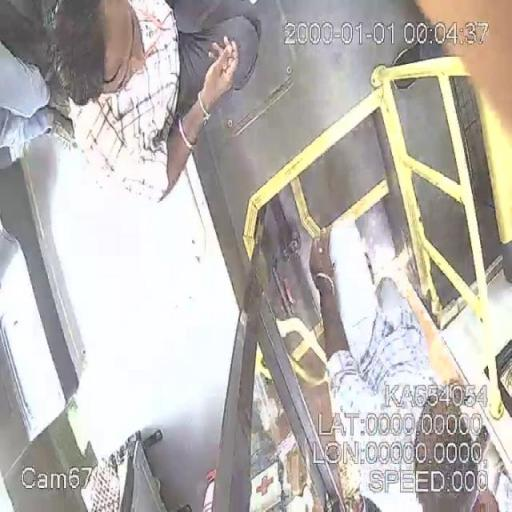persona: (307, 214, 497, 511), (0, 0, 260, 203)
